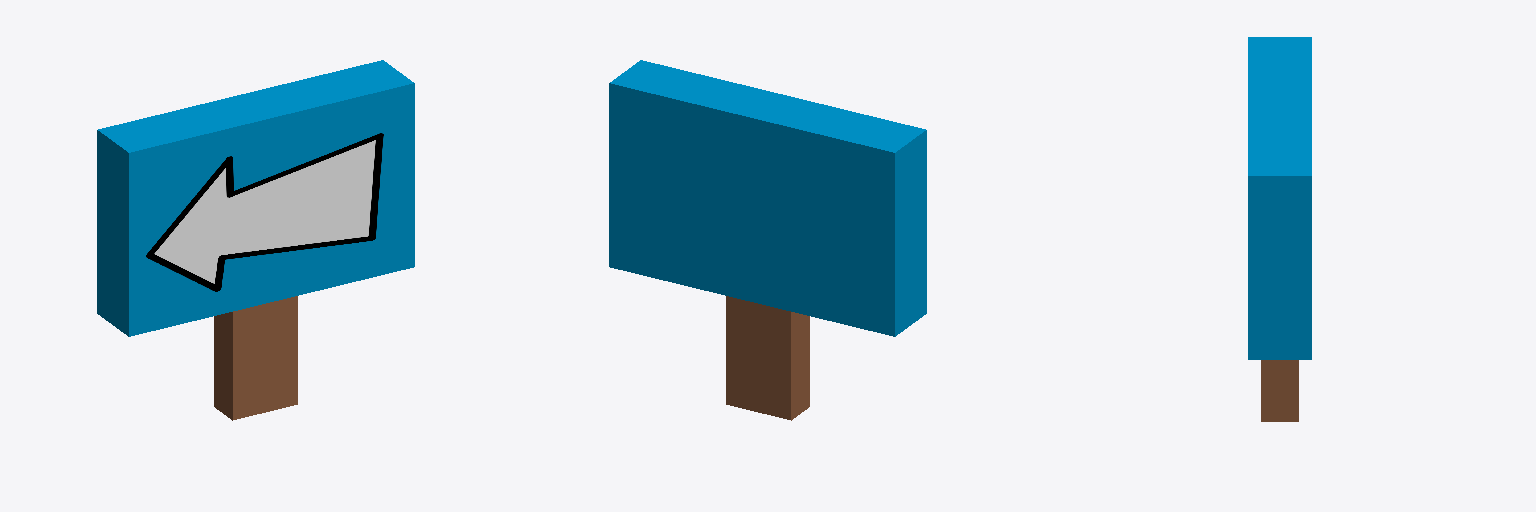
3 views of the same model, side by side, from view 1: azimuth 30°, elevation 25°; view 2: azimuth 150°, elevation 25°; view 3: azimuth 270°, elevation 25° (orthographic).
Visible parts, largest first — view 1: signU, signD; view 2: signU, signD; view 3: signU, signD.
Boxes of the visible parts, x1,y1,x2,y2 form: signU: [97, 60, 414, 336]; signD: [214, 296, 297, 420]; signU: [609, 60, 926, 336]; signD: [726, 296, 809, 420]; signU: [1248, 37, 1311, 359]; signD: [1261, 360, 1298, 421].
Size of the model in its own units: 0.65 by 0.65 by 0.125.
Materials: 2 (2 with a texture image).